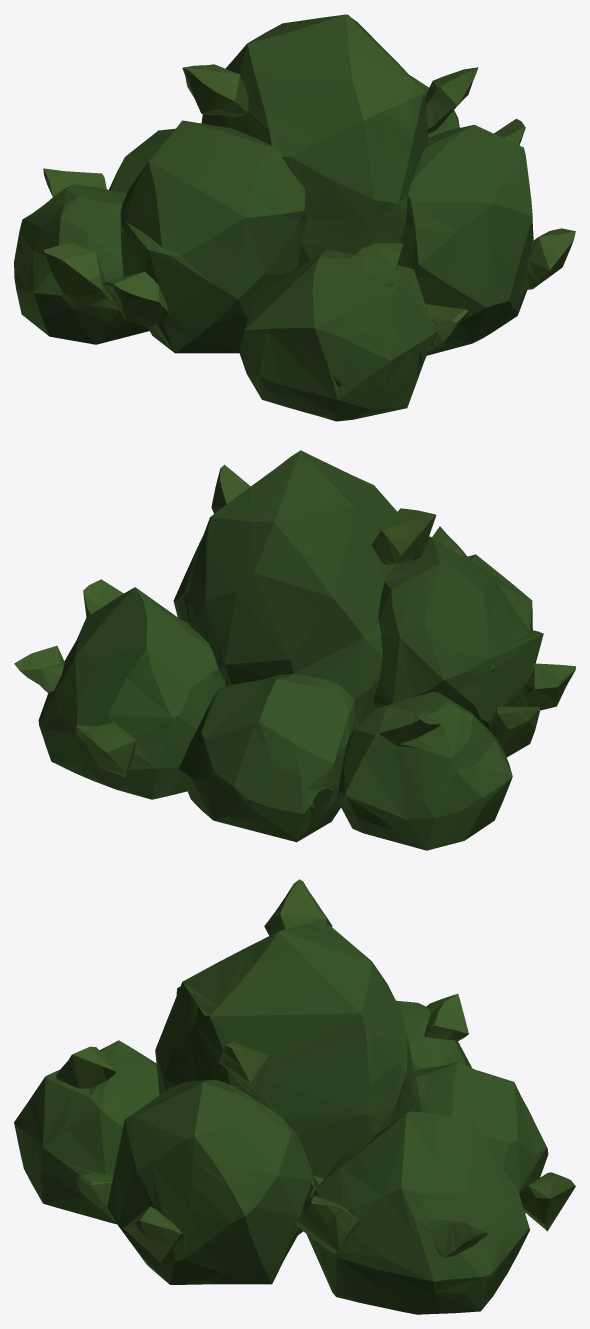
Rendered from bush1_lod.glb.
3 views of the same model, one above another, from view 1: azimuth 30°, elevation 25°; view 2: azimuth 150°, elevation 25°; view 3: azimuth 270°, elevation 25° (orthographic). The views are drawn at different scales.
Parts seen in each view (by area): view 1: bush1_lod; view 2: bush1_lod; view 3: bush1_lod.
Part boxes in pixels (x1,y1,x2,y2): bush1_lod: (14, 14, 575, 421); bush1_lod: (14, 450, 575, 850); bush1_lod: (14, 879, 575, 1314).
Bounding box in the file's own units: 0.9968 × 0.5909 × 1.
Materials: 1 (1 with a texture image).
